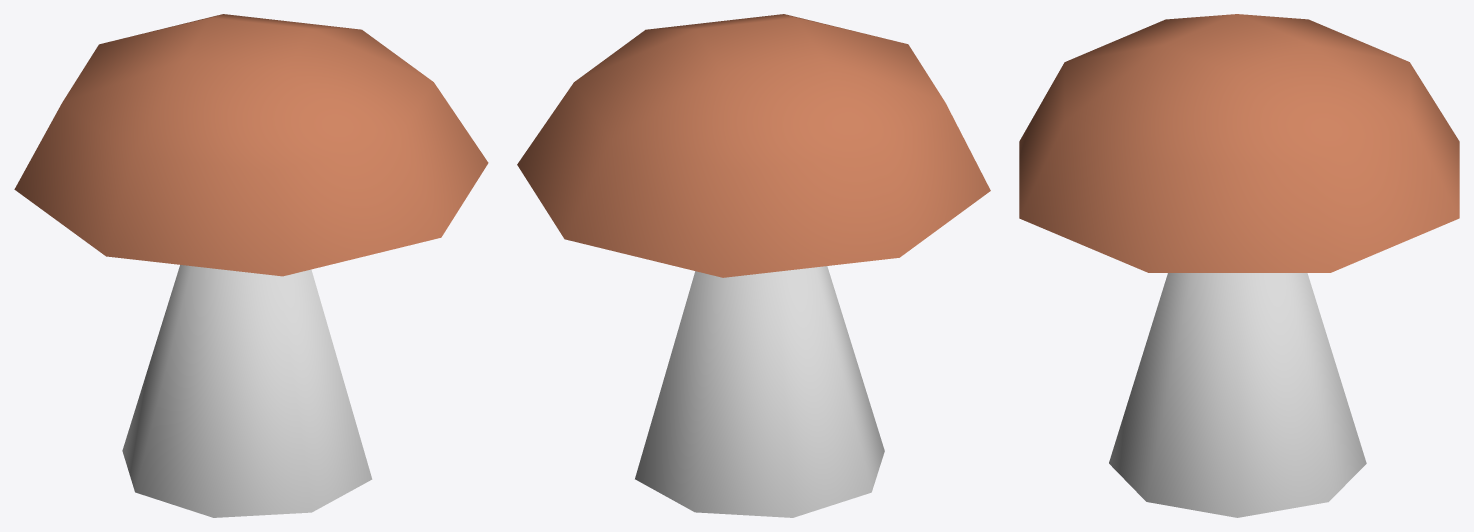
The model's file is mushroom.glb.
3 renders of one model, left to right at view 1: azimuth 30°, elevation 25°; view 2: azimuth 150°, elevation 25°; view 3: azimuth 270°, elevation 25°, orthographic.
Parts seen in each view (by area): view 1: Mushrooms; view 2: Mushrooms; view 3: Mushrooms.
Boxes of the visible parts, x1,y1,x2,y2 form: Mushrooms: [14, 14, 488, 517]; Mushrooms: [517, 14, 990, 517]; Mushrooms: [1019, 14, 1459, 517].
Size of the model in its own units: 1.97 by 2.07 by 1.97.
Materials: 1 (1 with a texture image).
